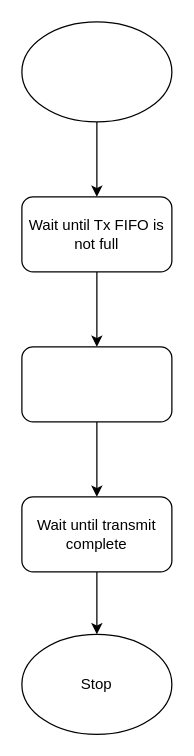
Some shapes in this 194 by 756 pixel diagram are drawn without their labels. Here are the shapes that lost their labels. From the top down, the centre of each, then its label:
the point at 96,71: Start
the point at 96,384: Transmit byte over SSI0Tx line
